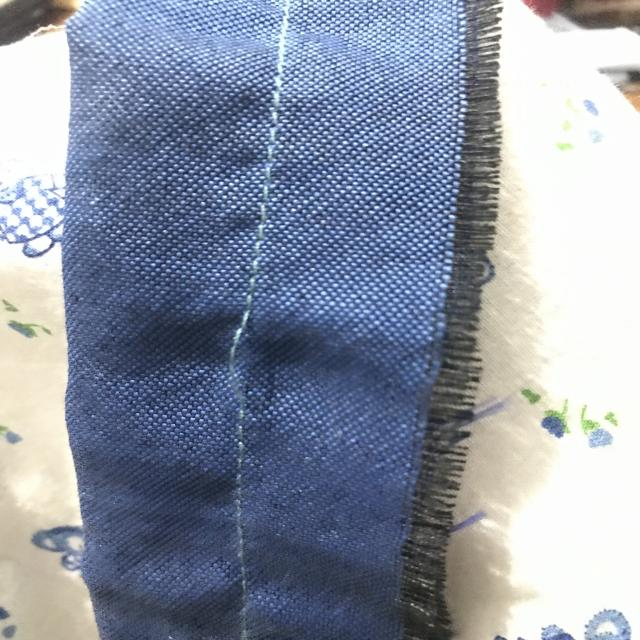good: (241, 138, 284, 248)
skip: (212, 294, 275, 418)
